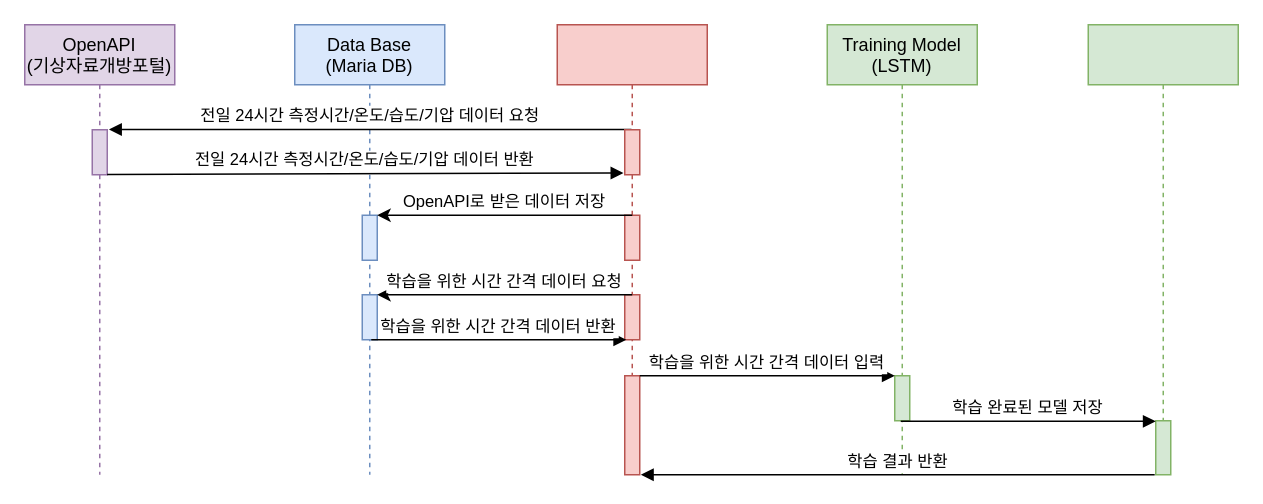
Image size: 1263x504. Some labels were removed from this diagram. The shapes that lost their labels are listed below. From the top down, each one's box as (x1, y1, x2, y2) in pixels, then its label:
(556, 23, 707, 475): Web Server (Flask)
(1087, 23, 1238, 475): Prediction Model (LSTM)
